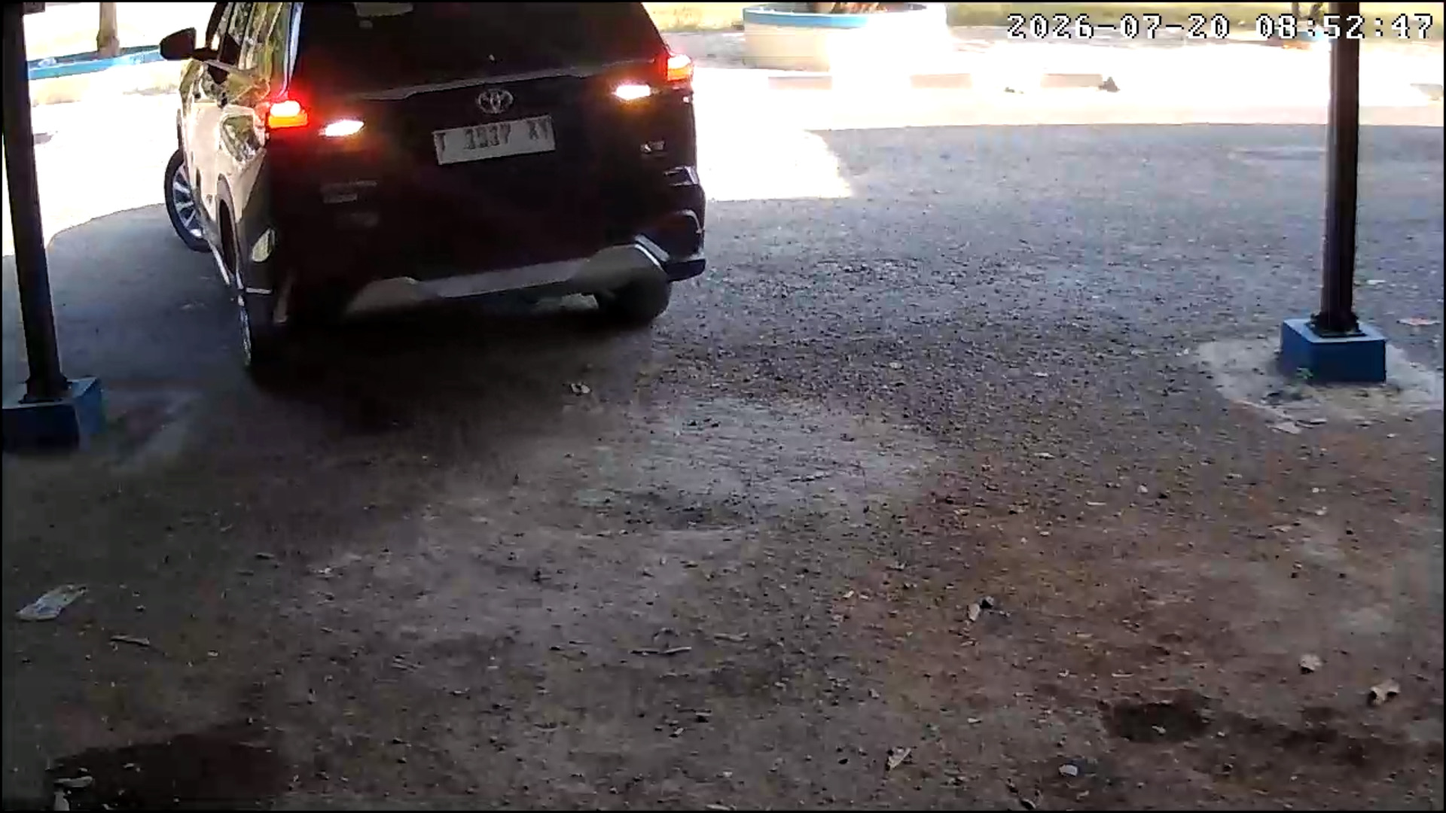plat nomor: (432, 113, 558, 170)
